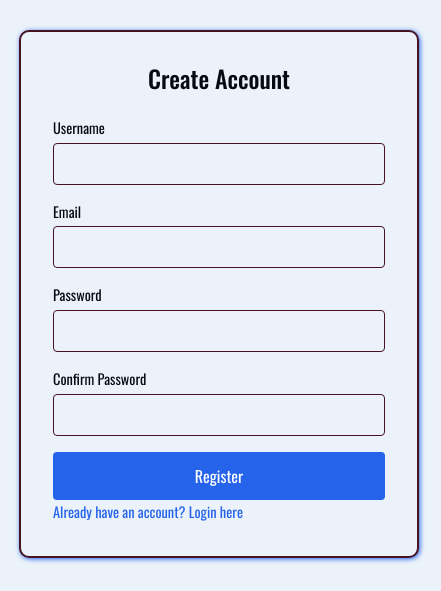
it: RegisterForm › shows error when password confirmation doesn't match
In the field labelled "Username": (219, 164) [53,143,385,185], type "testuser"
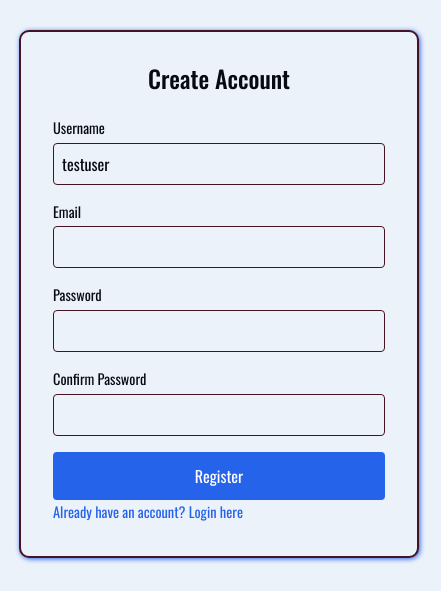
In the field labelled "Email": (219, 247) [53,226,385,268], type "test@example.com"
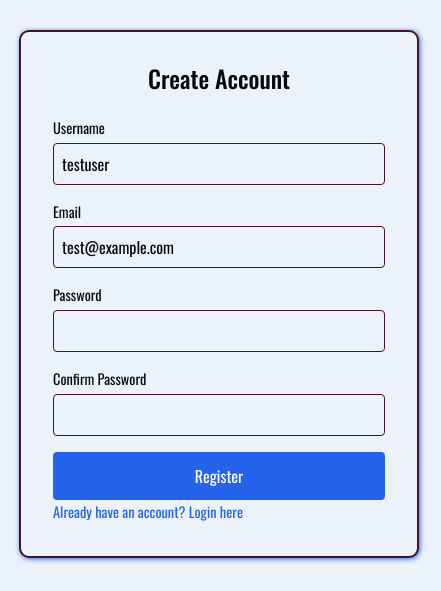
In the password field labelled "Password": (219, 331) [53,310,385,352], type "password123"
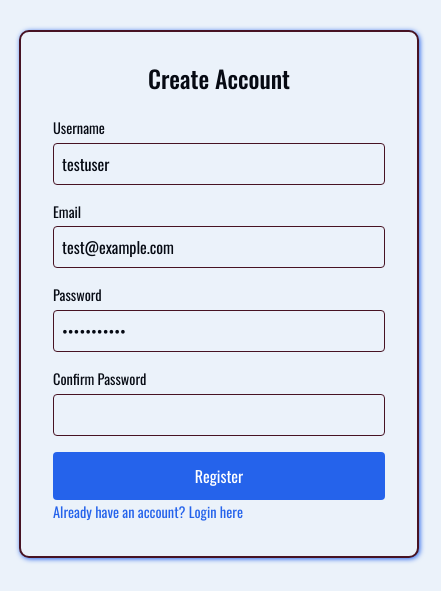
In the password field labelled "Confirm Password": (219, 415) [53,394,385,436], type "different"
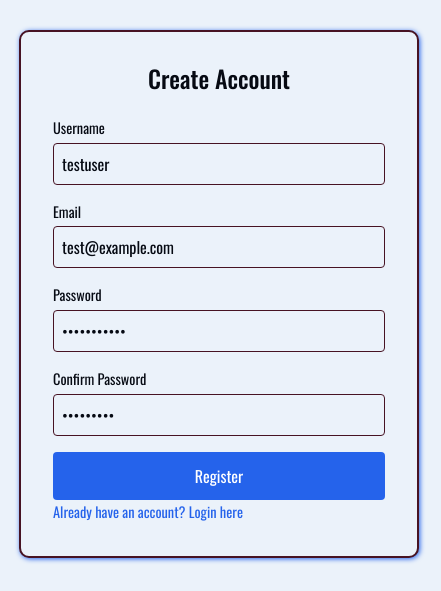
Submit the form from the button "Register", box [53,452,385,500]
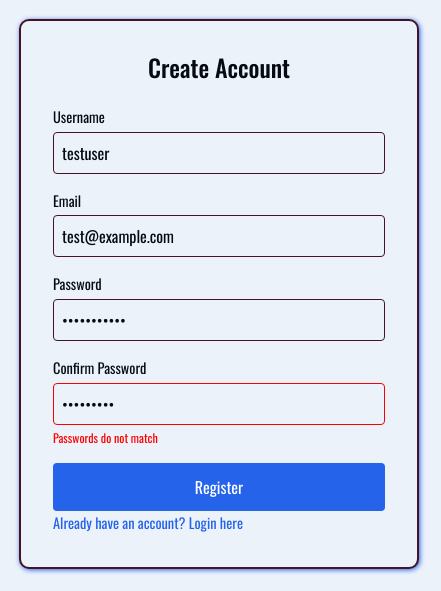
Now the text "Passwords do not match" is shown, box [53,429,158,446]
